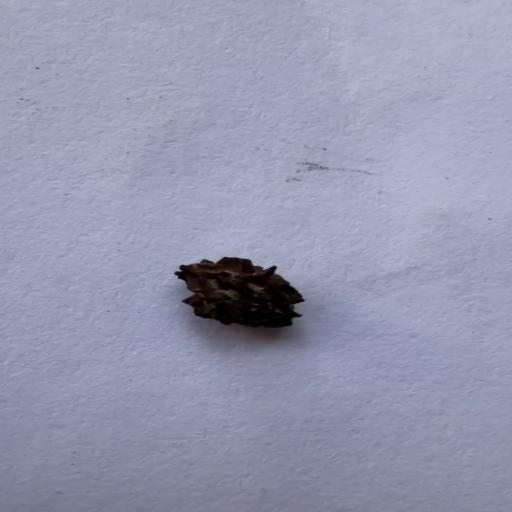papaya_seed: (170, 254, 306, 328)
